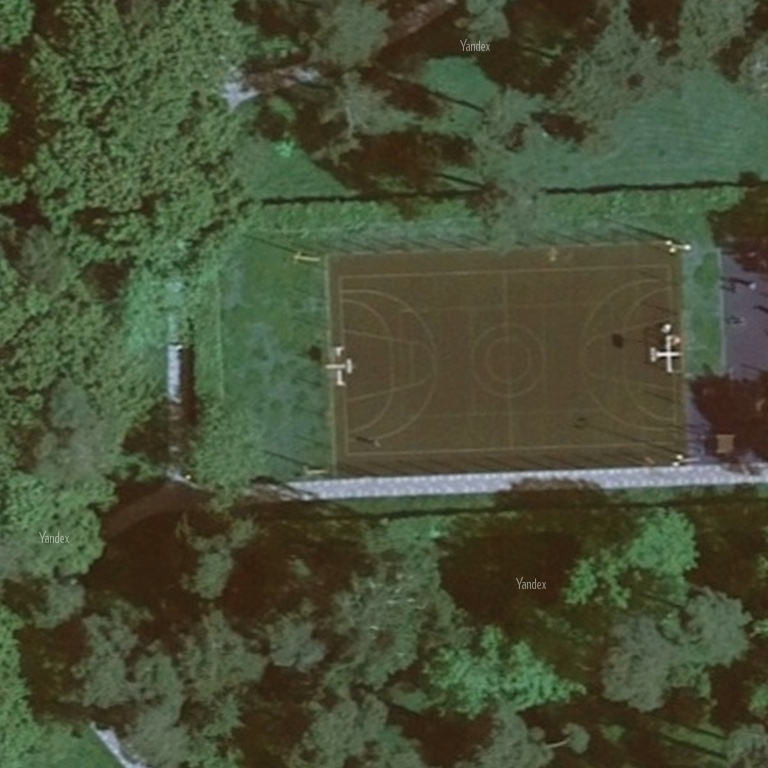basket_court: (297, 239, 699, 478)
